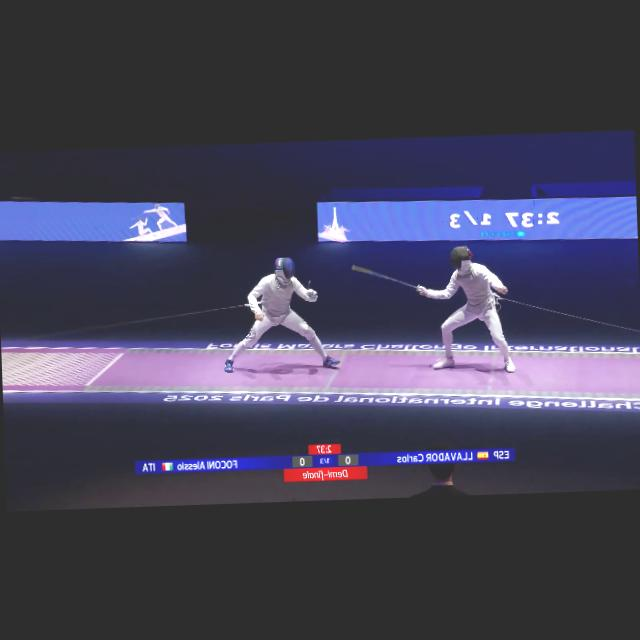blade: (350, 260, 425, 296), (304, 280, 316, 298)
